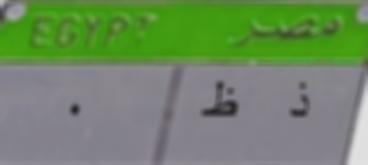0: (62, 91, 86, 128)
Thaa: (190, 73, 245, 132)
zaal: (274, 72, 322, 133)
